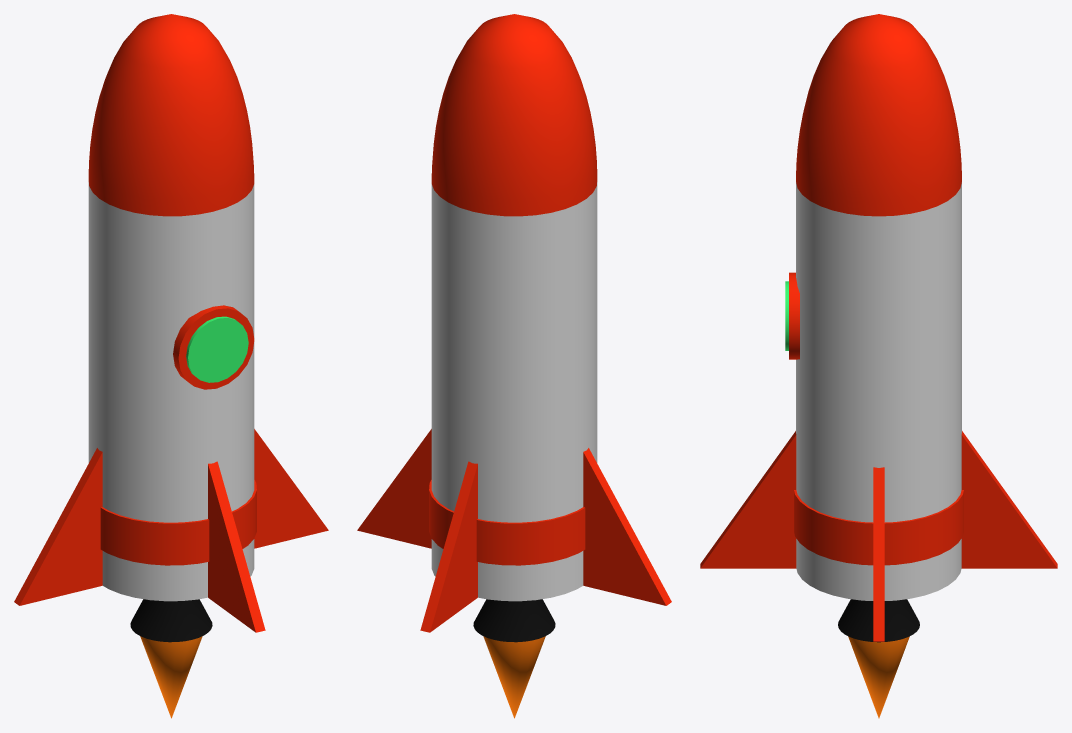
The model's file is Rocket_04_ClassicWhite.obj.
The picture shows the model from 3 angles, left to right: view 1: azimuth 30°, elevation 25°; view 2: azimuth 150°, elevation 25°; view 3: azimuth 270°, elevation 25°; orthographic projection.
Visible parts, largest first — view 1: R04_Body, R04_Nose, R04_Fin_2, R04_Band_1, R04_Fin_3, R04_Fin_4, R04_Window_1, R04_Nozzle_1, R04_Flame_1, R04_WindowFrame_1; view 2: R04_Body, R04_Nose, R04_Fin_2, R04_Band_1, R04_Fin_1, R04_Fin_4, R04_Nozzle_1, R04_Flame_1; view 3: R04_Body, R04_Nose, R04_Band_1, R04_Fin_1, R04_Fin_3, R04_Nozzle_1, R04_Flame_1, R04_Fin_4, R04_WindowFrame_1.
Part boxes in pixels (x1,y1,x2,y2): R04_Body: (88, 182, 254, 601); R04_Nose: (88, 14, 254, 216); R04_Fin_2: (14, 448, 102, 605); R04_Band_1: (100, 480, 256, 565); R04_Fin_3: (208, 461, 265, 632); R04_Fin_4: (254, 429, 328, 548); R04_Window_1: (186, 316, 248, 382); R04_Nozzle_1: (130, 599, 212, 642); R04_Flame_1: (140, 636, 202, 718); R04_WindowFrame_1: (173, 305, 254, 389); R04_Body: (431, 182, 597, 601); R04_Nose: (431, 14, 597, 216); R04_Fin_2: (583, 448, 671, 605); R04_Band_1: (429, 480, 585, 565); R04_Fin_1: (420, 461, 477, 632); R04_Fin_4: (357, 429, 431, 548); R04_Nozzle_1: (473, 599, 555, 642); R04_Flame_1: (483, 636, 545, 718); R04_Body: (796, 182, 961, 600); R04_Nose: (796, 14, 961, 216); R04_Band_1: (794, 490, 963, 565); R04_Fin_1: (961, 431, 1057, 568); R04_Fin_3: (700, 431, 796, 568); R04_Nozzle_1: (838, 599, 919, 642); R04_Flame_1: (848, 636, 909, 718); R04_Fin_4: (873, 467, 884, 641); R04_WindowFrame_1: (789, 272, 799, 359).
Bounding box in the file's own units: 3.87 × 8.43 × 3.87.
